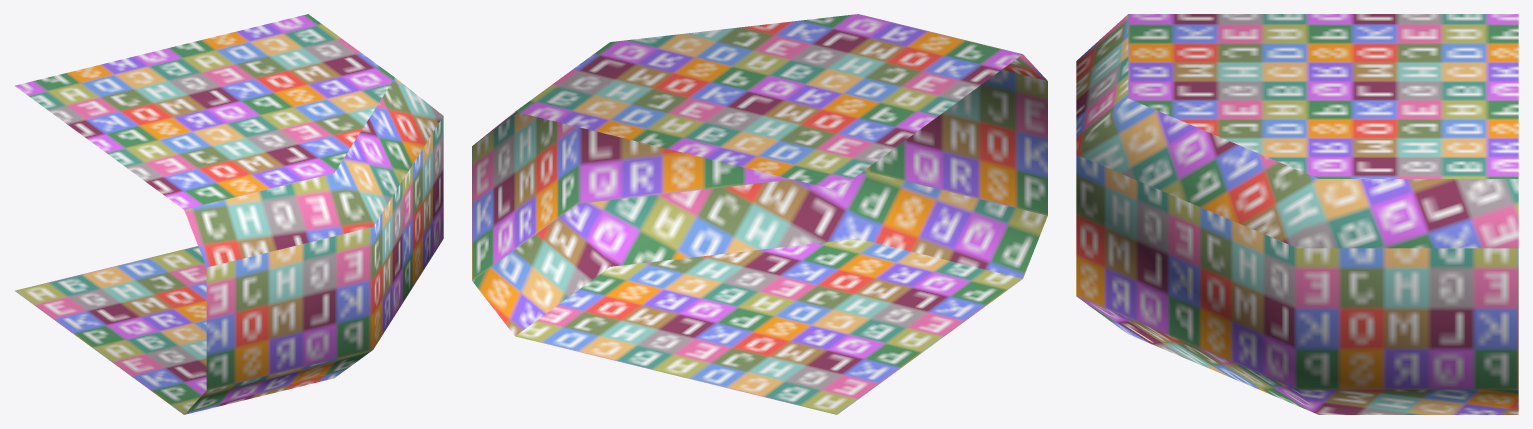
Rendered from corridor_corner2.obj.
3 renders of one model, left to right at view 1: azimuth 30°, elevation 25°; view 2: azimuth 150°, elevation 25°; view 3: azimuth 270°, elevation 25°, orthographic. The views are drawn at different scales.
Visible parts, largest first — view 1: cube1; view 2: cube1; view 3: cube1.
Part boxes in pixels (left/top/right/bottom): cube1: left=14, top=14, right=443, bottom=414; cube1: left=472, top=14, right=1047, bottom=414; cube1: left=1076, top=14, right=1518, bottom=414.
Size of the model in its own units: 17 by 10 by 17.
